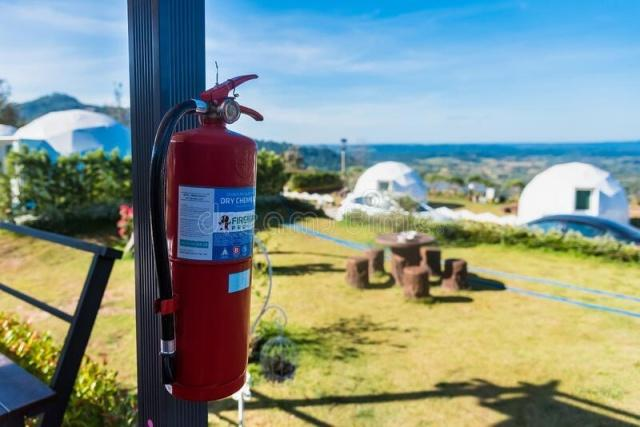APAR: (159, 73, 265, 400)
